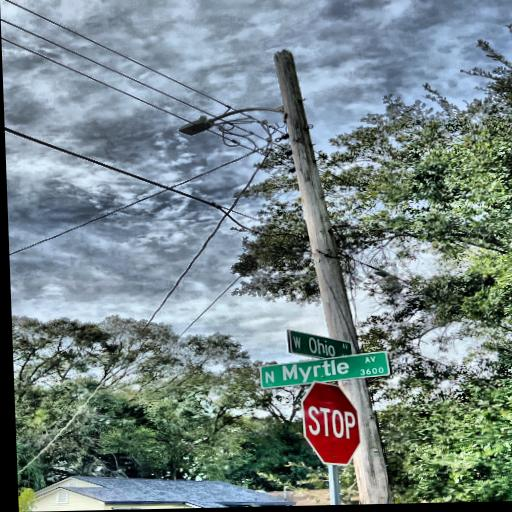pole: (261, 37, 434, 506)
street light: (177, 105, 287, 136)
